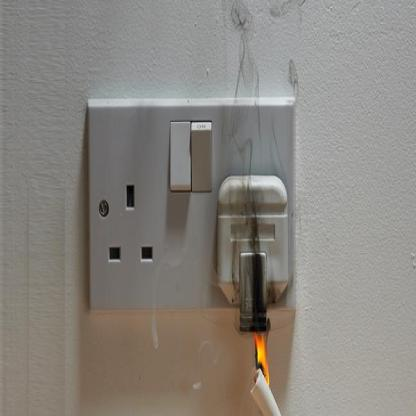fire: (254, 332, 271, 382)
smoke: (219, 3, 301, 345)
